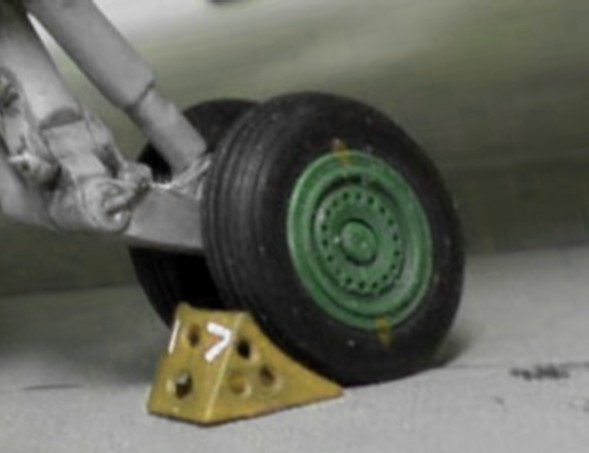chock: (110, 276, 358, 446)
wheel: (162, 69, 511, 413)
